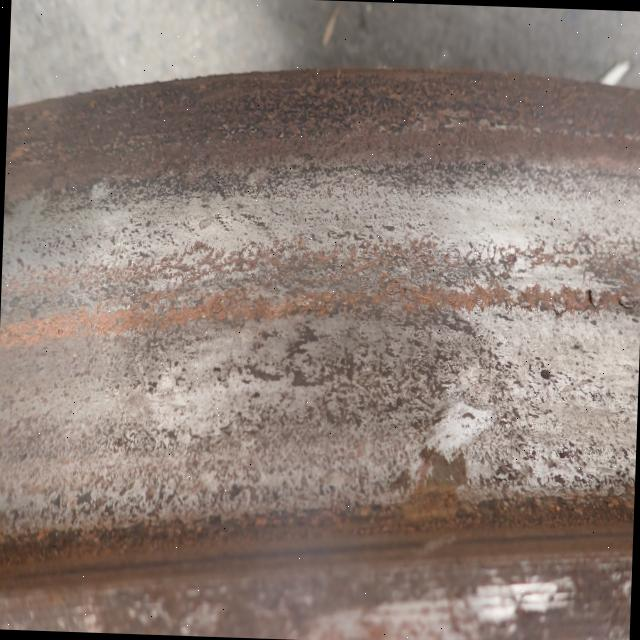Contact_Fatigue_Cracks: (376, 272, 420, 297)
Peeling: (577, 284, 640, 319)
